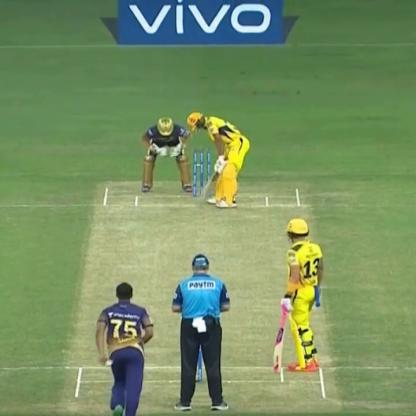ball: (104, 356, 117, 371)
pitch: (74, 177, 331, 415)
